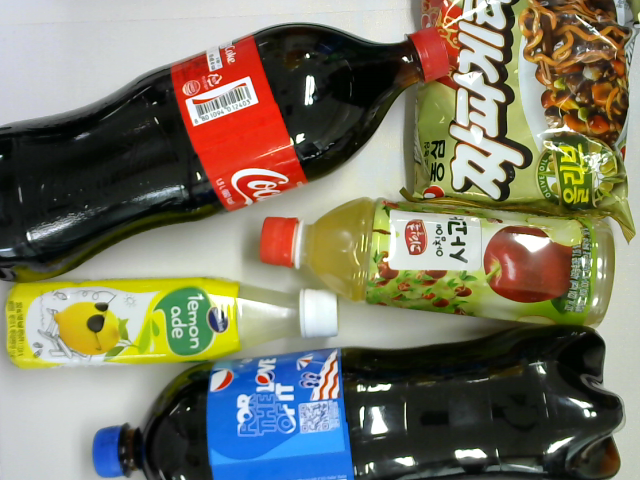Coca_Cola_1.5L: (1, 21, 453, 285)
Morning_Apple_500ml: (260, 195, 616, 328)
Olive_Chapaghetti: (400, 1, 640, 243)
Pepsi_Cola_1.5L: (92, 324, 626, 474)
Sunkist_Lemonaid_Pet: (1, 275, 341, 370)
